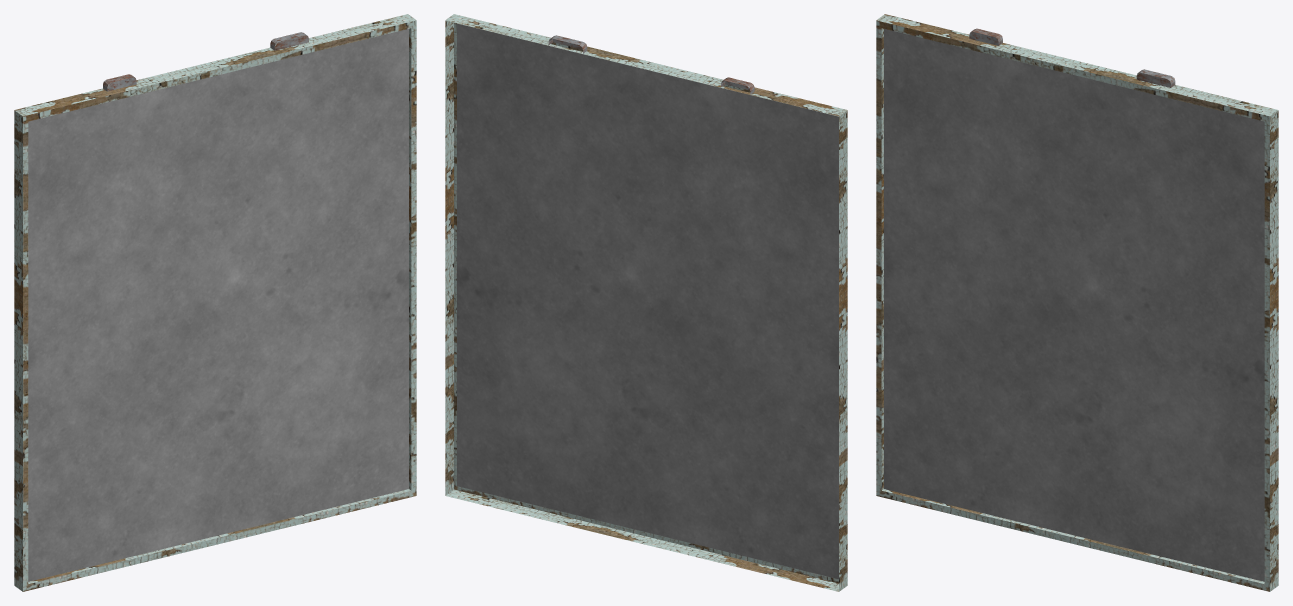
Rendered from Mirror.fbx.
3 renders of one model, left to right at view 1: azimuth 30°, elevation 25°; view 2: azimuth 150°, elevation 25°; view 3: azimuth 330°, elevation 25°, orthographic.
Visible parts, largest first — view 1: Mirror, Frame; view 2: Mirror, Frame; view 3: Mirror, Frame.
Boxes of the visible parts, box(x1,y1,x2,y2) form: Mirror: box(28, 29, 408, 581); Frame: box(14, 14, 416, 591); Mirror: box(457, 23, 838, 579); Frame: box(445, 14, 847, 591); Mirror: box(884, 29, 1264, 581); Frame: box(876, 14, 1278, 591).
Bounding box in the file's own units: 52 × 61 × 2.
